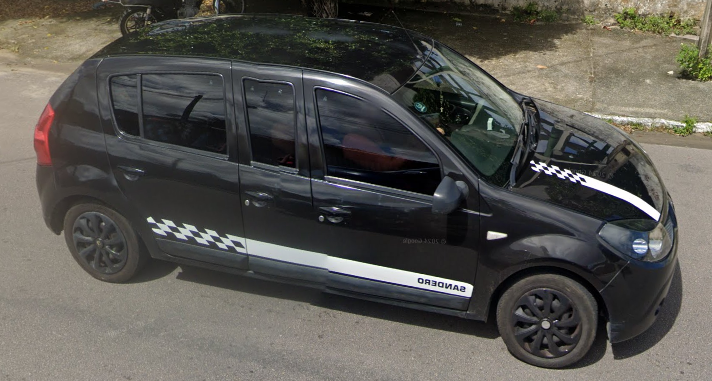car: (34, 13, 679, 368)
